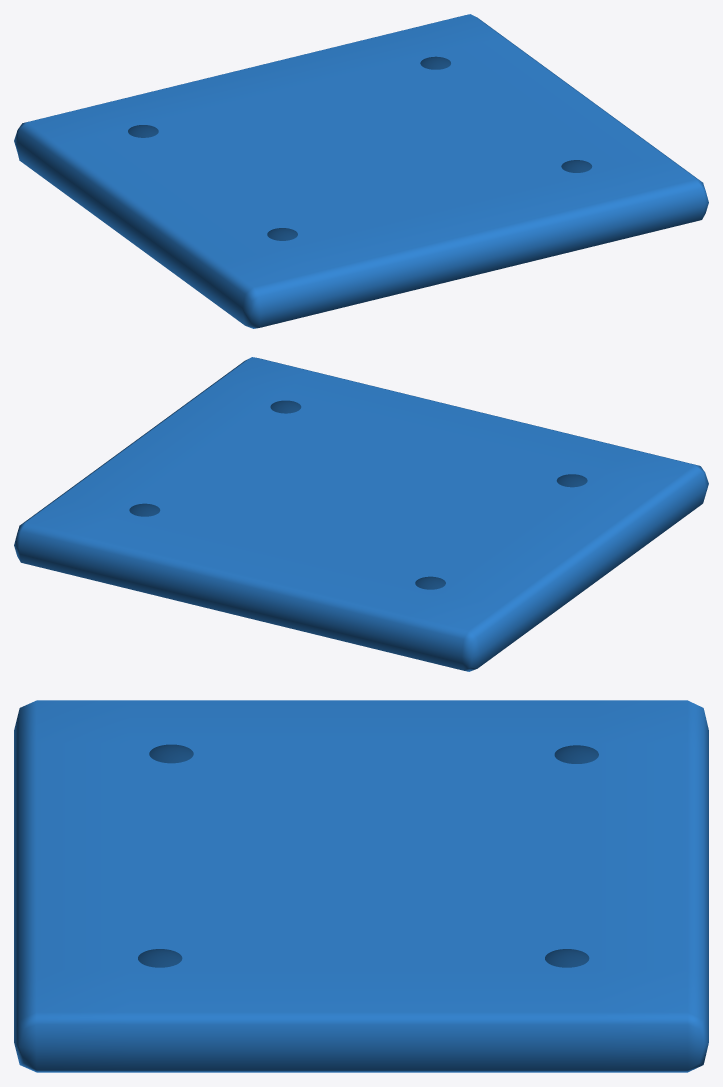
Rendered from 3D Pillow.fbx.
3 views of the same model, one above another, from view 1: azimuth 30°, elevation 25°; view 2: azimuth 150°, elevation 25°; view 3: azimuth 270°, elevation 25° (orthographic). The views are drawn at different scales.
Visible parts, largest first — view 1: pSphere11; view 2: pSphere11; view 3: pSphere11.
Boxes of the visible parts, bbox=[...] form: pSphere11: bbox=[14, 14, 708, 328]; pSphere11: bbox=[14, 357, 708, 671]; pSphere11: bbox=[14, 700, 708, 1072].
Bounding box in the file's own units: 4.52 × 0.4169 × 4.07.
